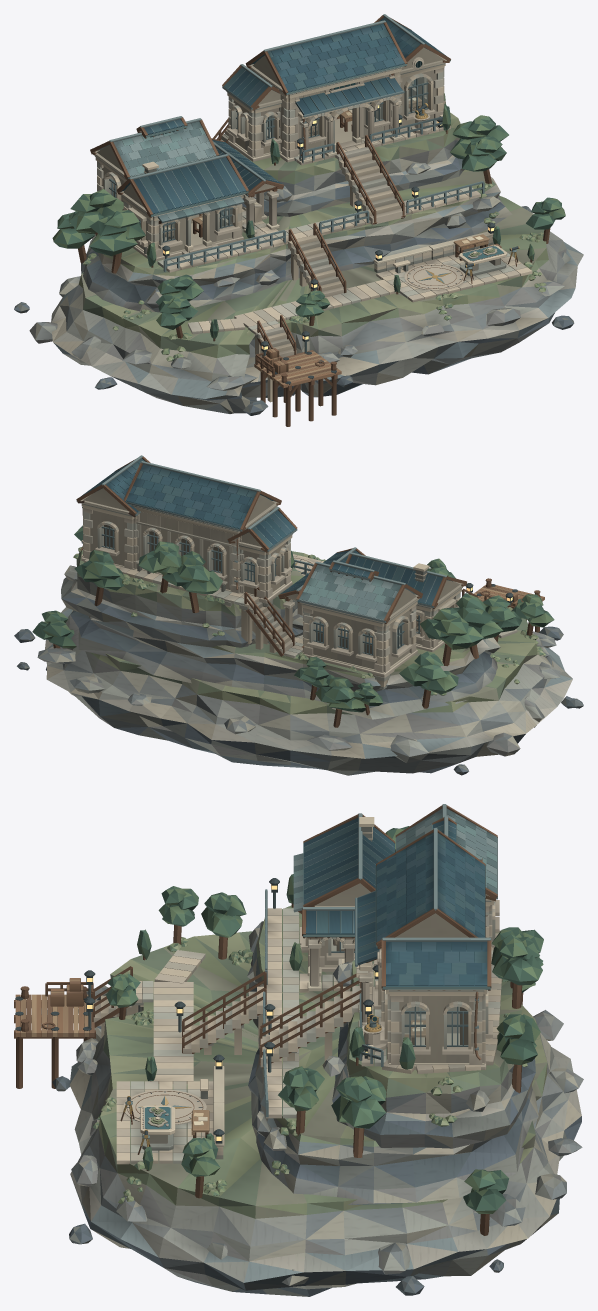
File: gopher-atlas.glb
3 renders of one model, top to bottom at view 1: azimuth 30°, elevation 25°; view 2: azimuth 150°, elevation 25°; view 3: azimuth 270°, elevation 25°, orthographic. The views are drawn at different scales.
Visible parts, largest first — view 1: GopherAtlas — The Atlas Observatory; view 2: GopherAtlas — The Atlas Observatory; view 3: GopherAtlas — The Atlas Observatory.
Part boxes in pixels (x1,y1,x2,y2): GopherAtlas — The Atlas Observatory: (14,14,583,426); GopherAtlas — The Atlas Observatory: (14,455,583,775); GopherAtlas — The Atlas Observatory: (14,804,583,1296).
Bounding box in the file's own units: 25.96 × 12.48 × 18.57.
Materials: 3 (1 with a texture image).
